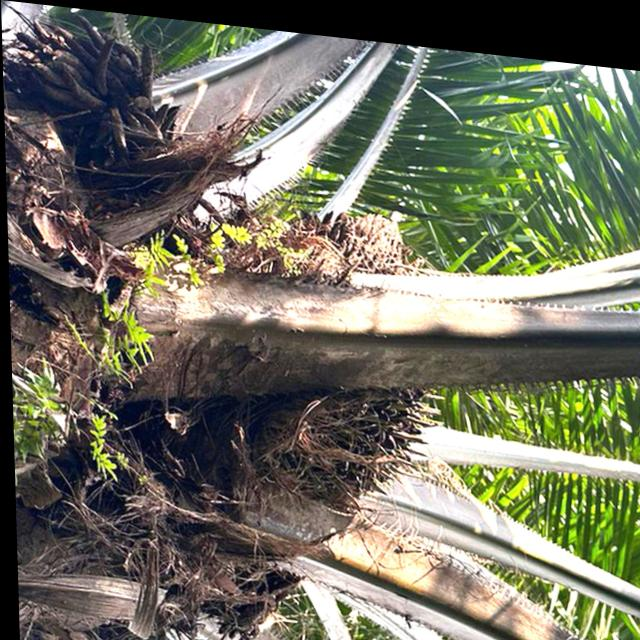unripe: (260, 340, 446, 514)
